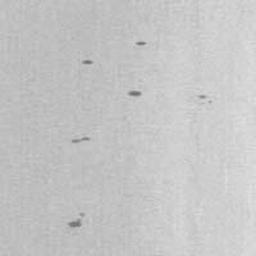Inclusion: (67, 211, 86, 229), (197, 93, 215, 105), (69, 136, 92, 143), (127, 91, 142, 97), (134, 40, 146, 46), (82, 59, 92, 65)
